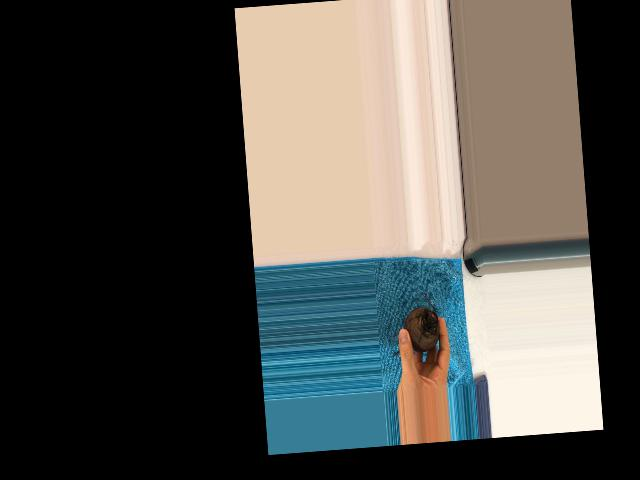beet: (386, 292, 440, 356)
